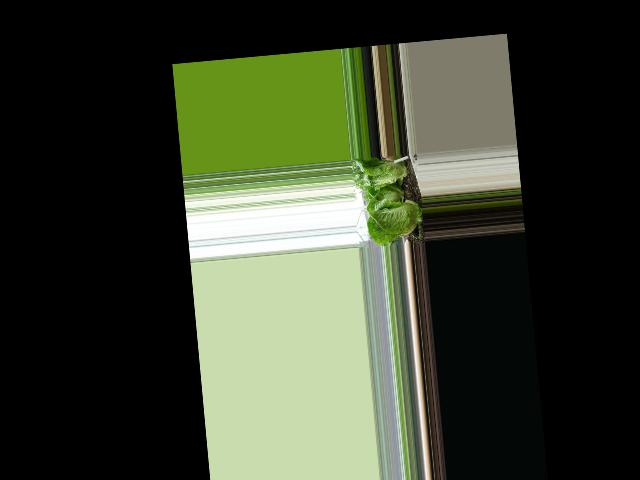lettuce: (356, 157, 415, 192)
